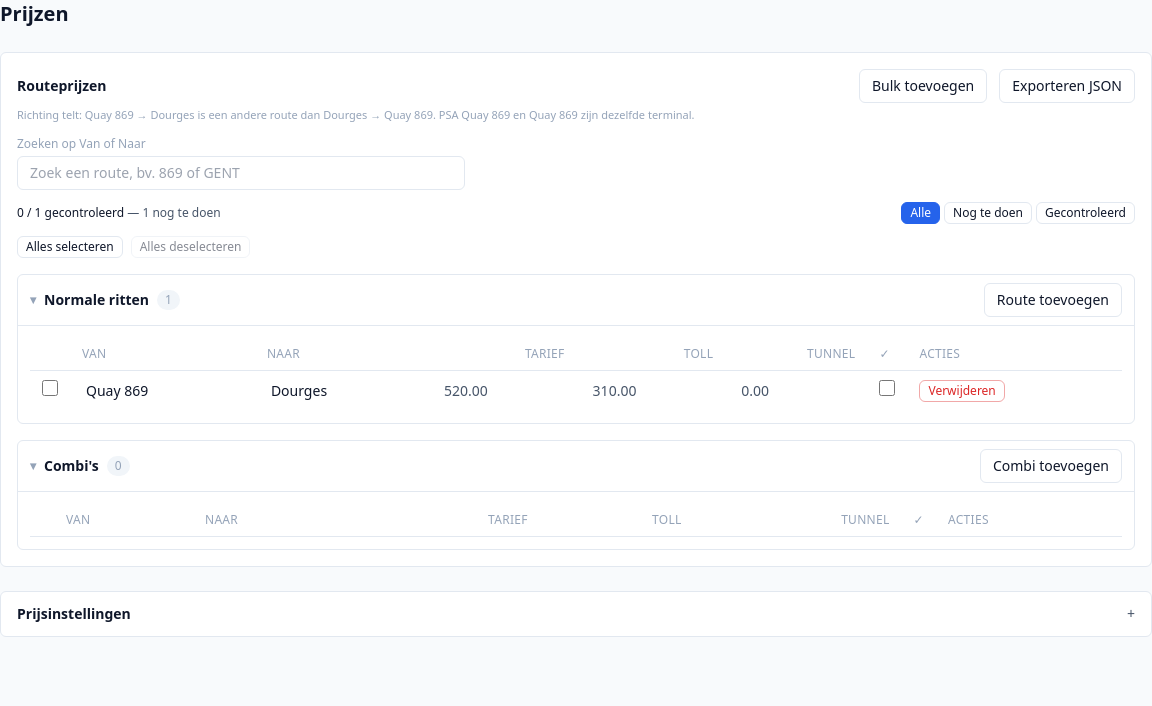
removing a route › says it was removed rather than that saving failed
The image size is (1152, 706).
Click the button with aria-label "Verwijderen Quay 869 Dourges" at x=962, y=390, box x1=919 y1=380 x2=1005 y2=402
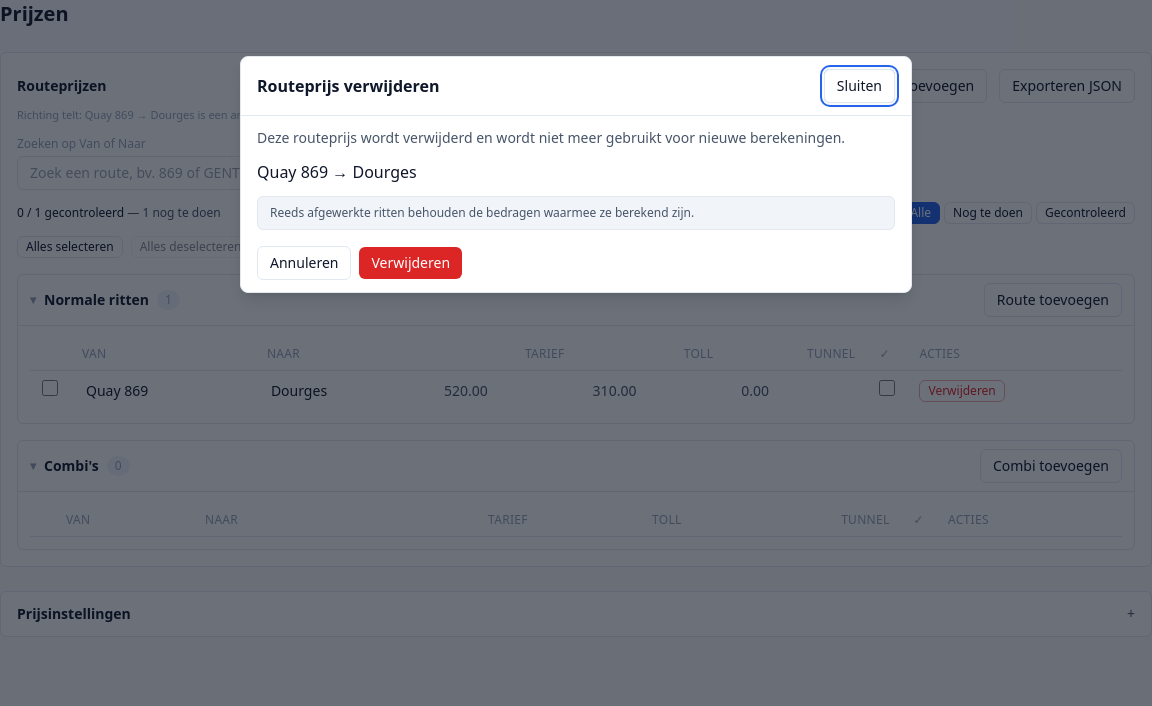
Click the button "Verwijderen" at x=411, y=263, box x1=360 y1=247 x2=462 y2=279
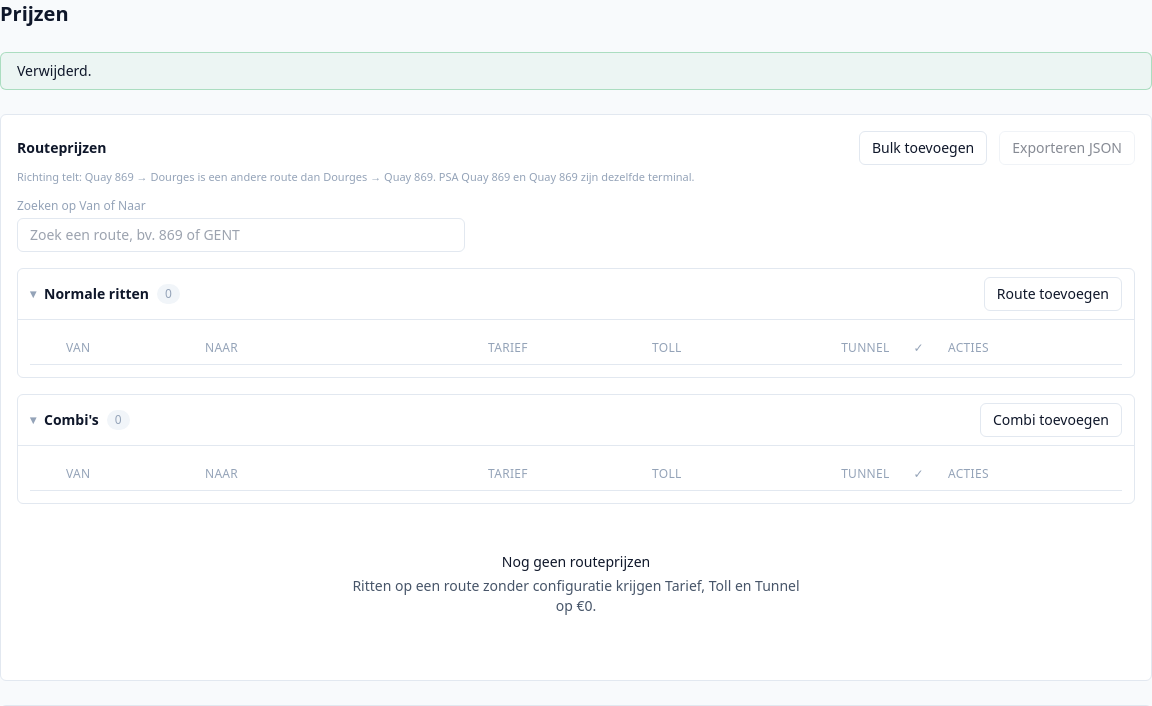
Expected: the message reads "Verwijderd.", x1=17 y1=61 x2=91 y2=80
